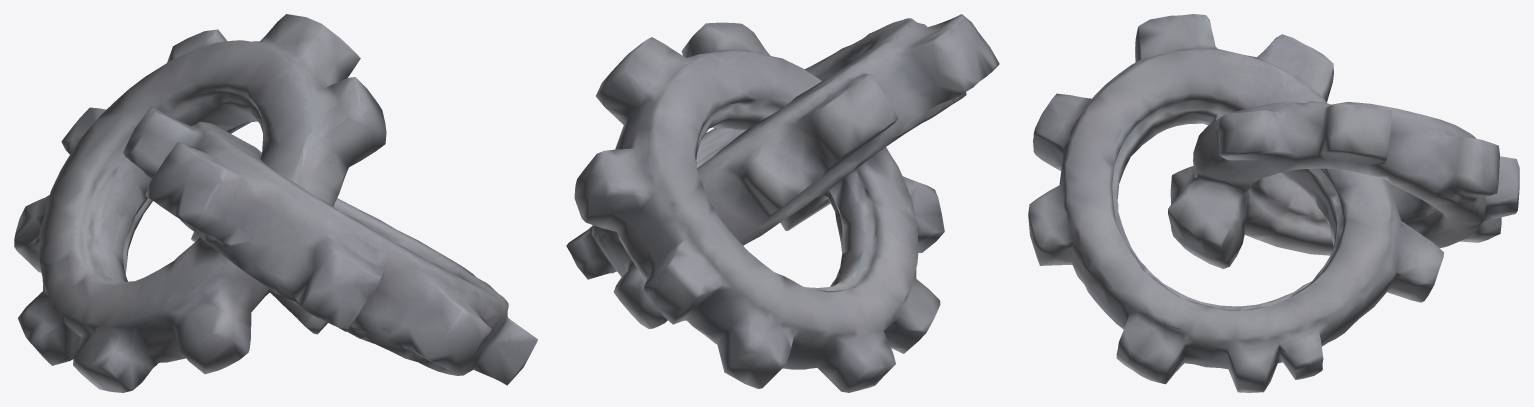
The model's file is Gear.obj.
3 renders of one model, left to right at view 1: azimuth 30°, elevation 25°; view 2: azimuth 150°, elevation 25°; view 3: azimuth 270°, elevation 25°, orthographic. The views are drawn at different scales.
Bounding box in the file's own units: 0.6911 × 0.5103 × 0.8933.
1 material, 1 textured.
